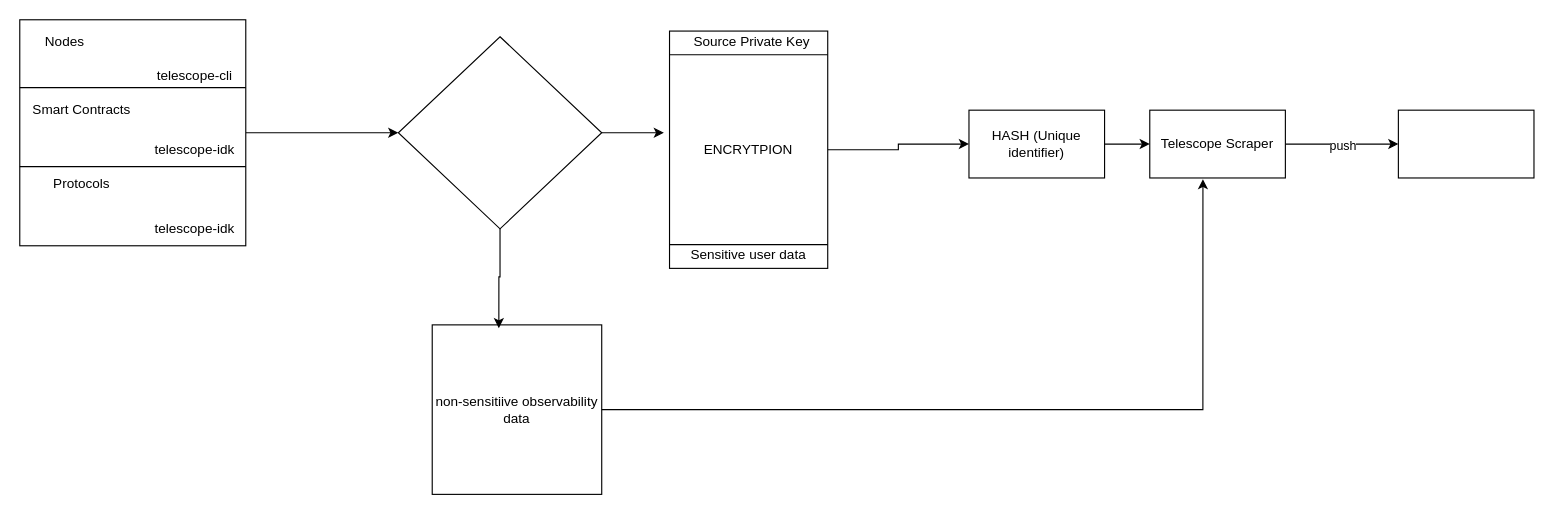
This 1554x514 diagram has some shape labels left out. The shapes that lost their labels are listed below. From the top down, each one's box as (x1, y1, x2, y2) in pixels, then its label:
(397, 36, 602, 229): Sensitive Data
(1397, 109, 1534, 178): telescope metrics API
